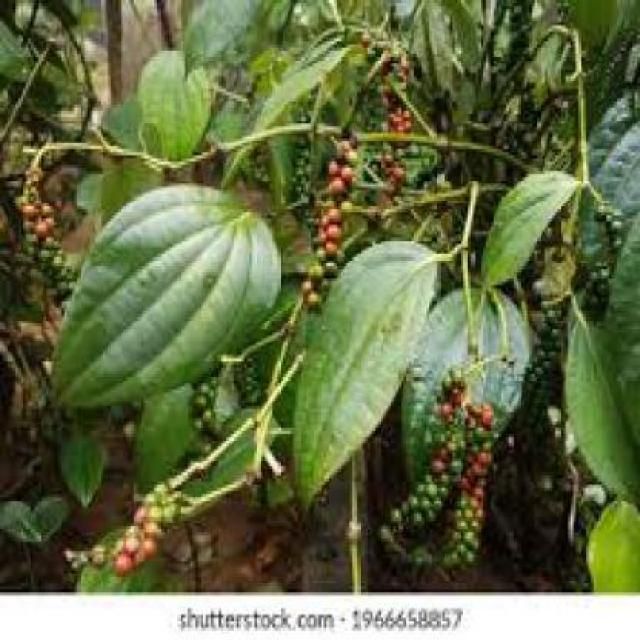RIPE: (306, 140, 352, 305), (442, 388, 499, 495), (85, 500, 146, 586), (383, 98, 417, 197), (12, 179, 54, 226)
